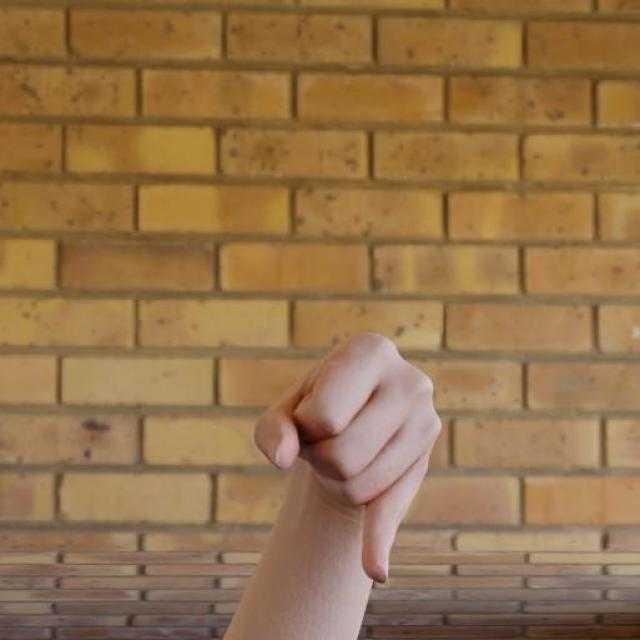J: (229, 304, 463, 628)
